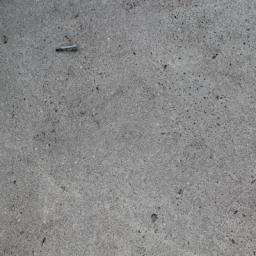FOD: (54, 39, 82, 59)
